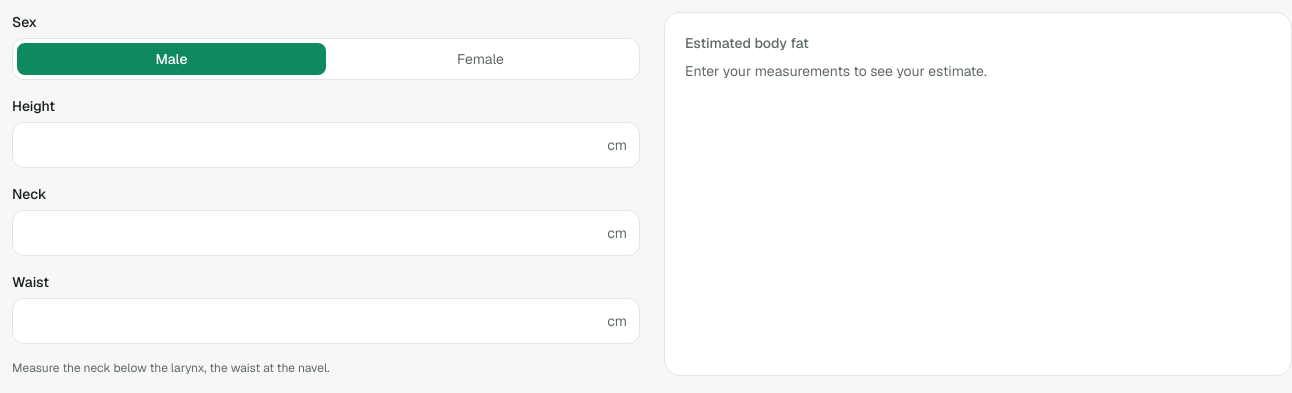
Test case: BodyFatCalculator › estimates male body fat
In the number field labelled "Height": (310, 145) [13,123,607,167], type "180"
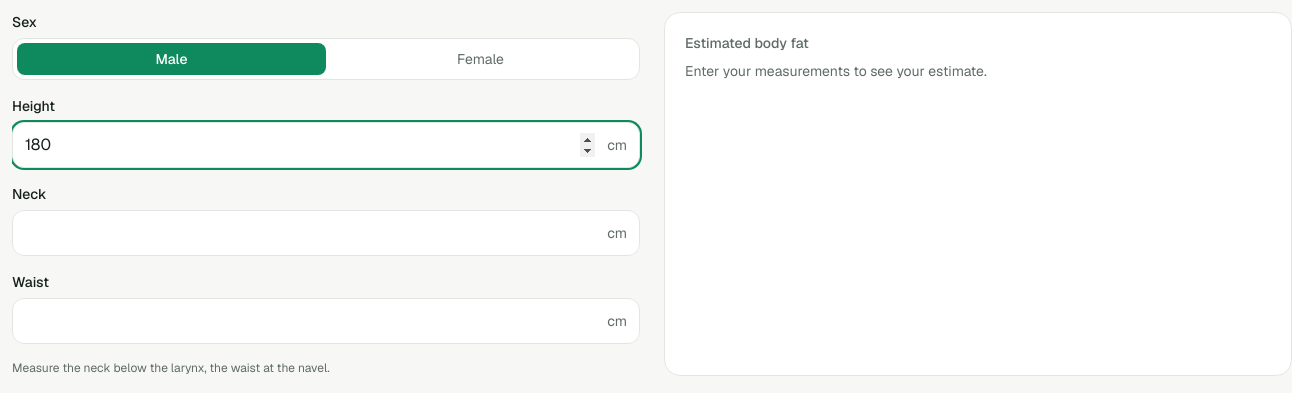
In the number field labelled "Neck": (310, 233) [13,211,607,255], type "38"
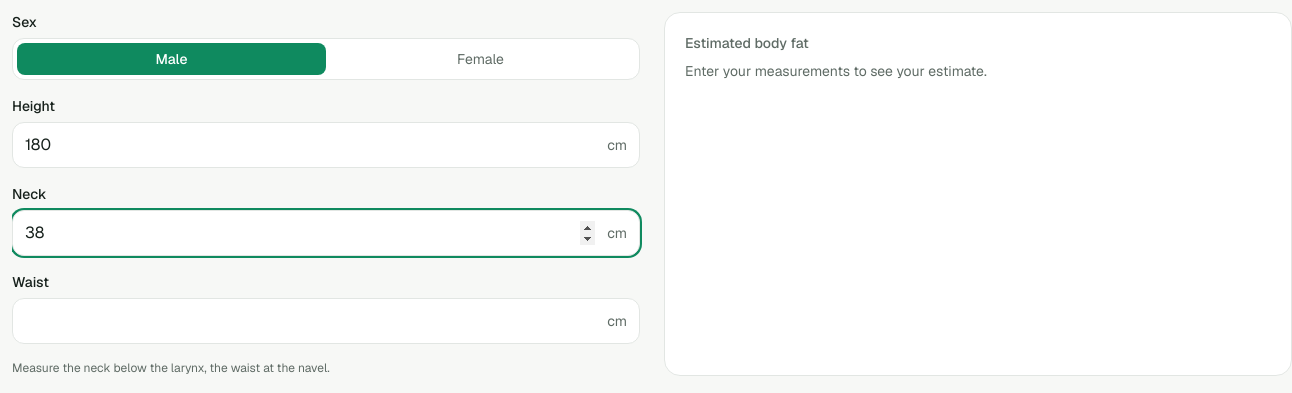
In the number field labelled "Waist": (310, 321) [13,299,607,343], type "85"
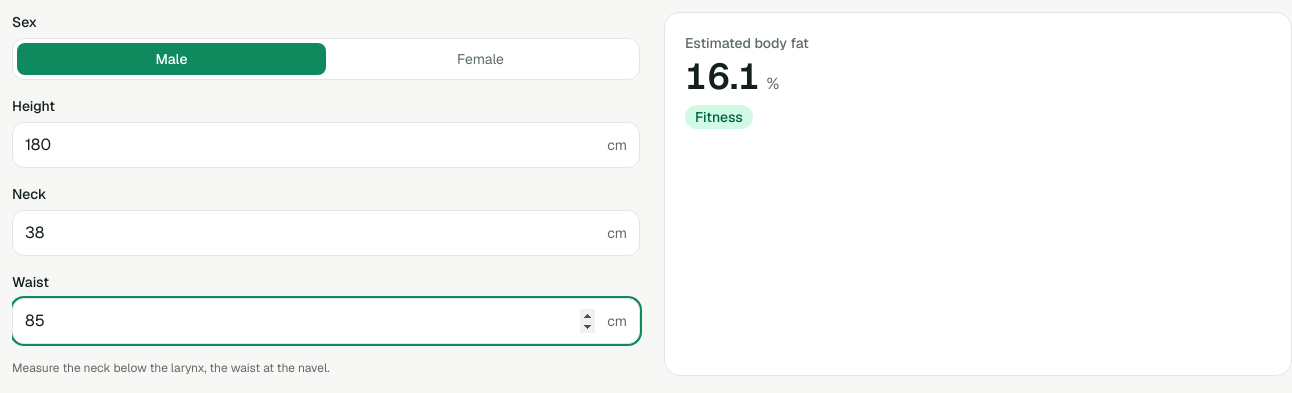
Now the text with test id "result-value" reads "16.1", box [685,53,760,100]
Now the text "Fitness" is shown, box [685,105,753,129]
